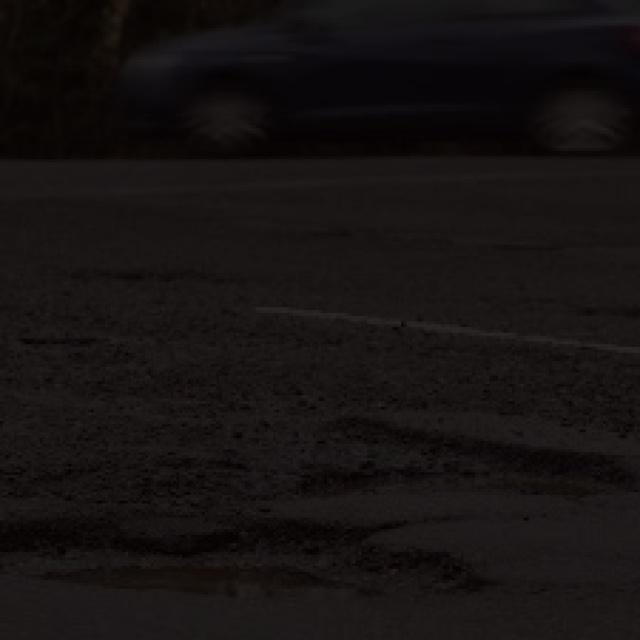Pothole: (0, 487, 473, 639), (269, 395, 640, 513)
